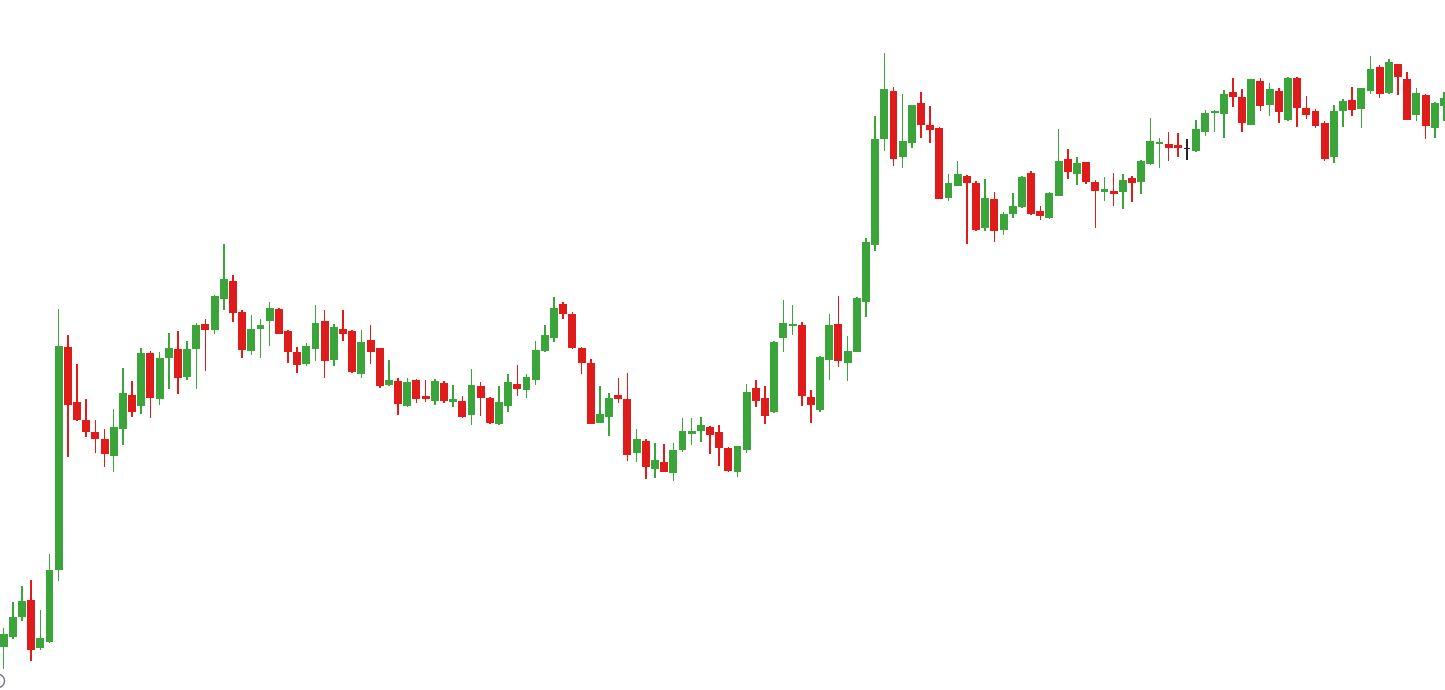buy: (1236, 88, 1340, 171), (761, 348, 826, 430), (1035, 157, 1101, 235)
